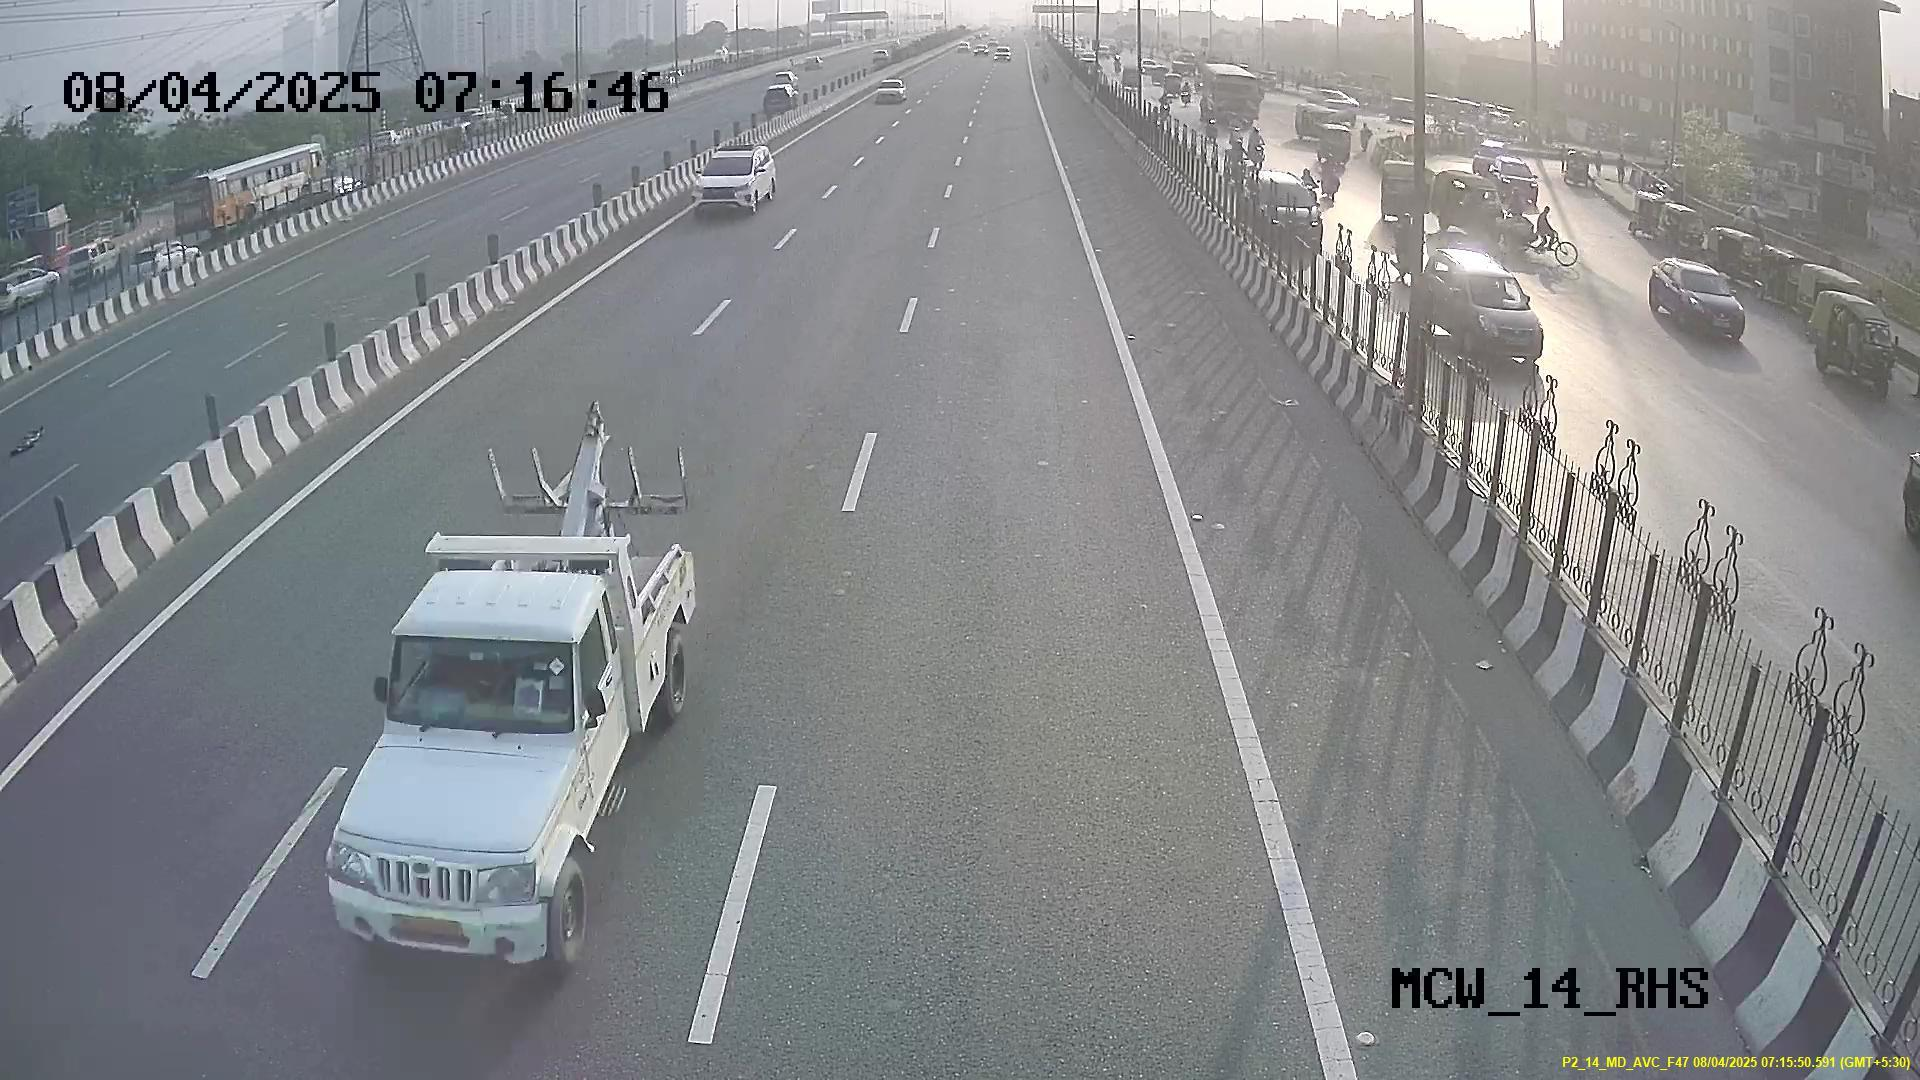car: (332, 584, 609, 972)
